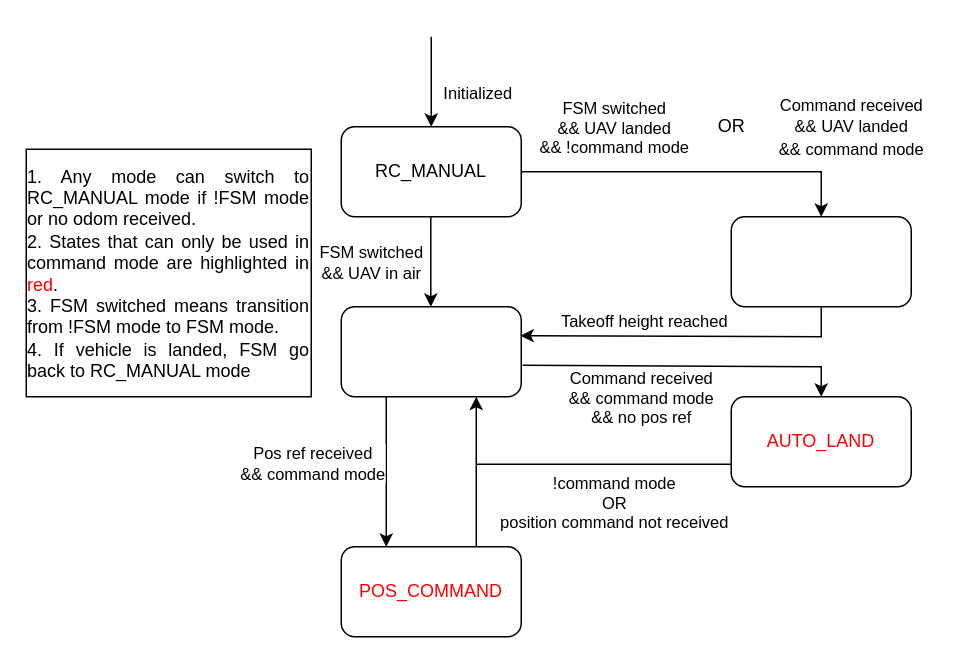
Image size: 968x663. Some labels were removed from this diagram. The shapes that lost their labels are listed below. From the top down, each one's centre as x and y in pixels, then its label:
At pixel 820 261: "AUTO_TAKEOFF".
At pixel 430 351: "AUTO_HOVER".
